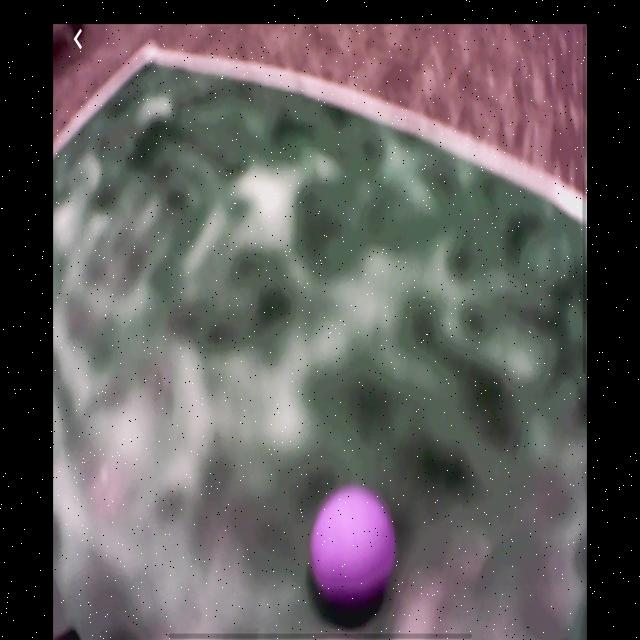ball: (309, 484, 397, 613)
